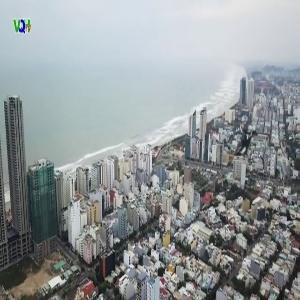drone: (199, 95, 296, 192)
